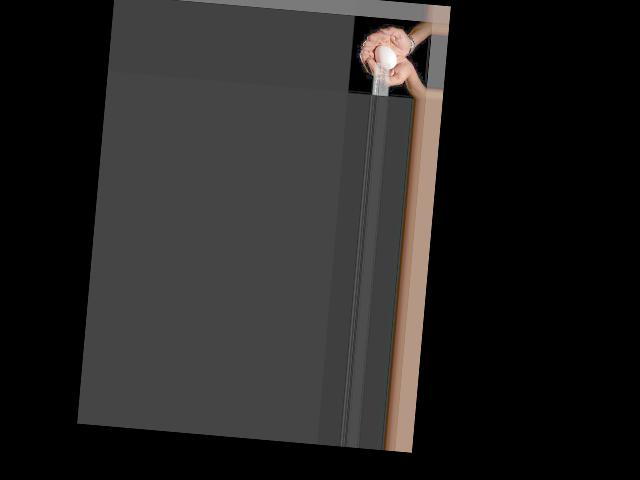egg: (373, 44, 397, 69)
